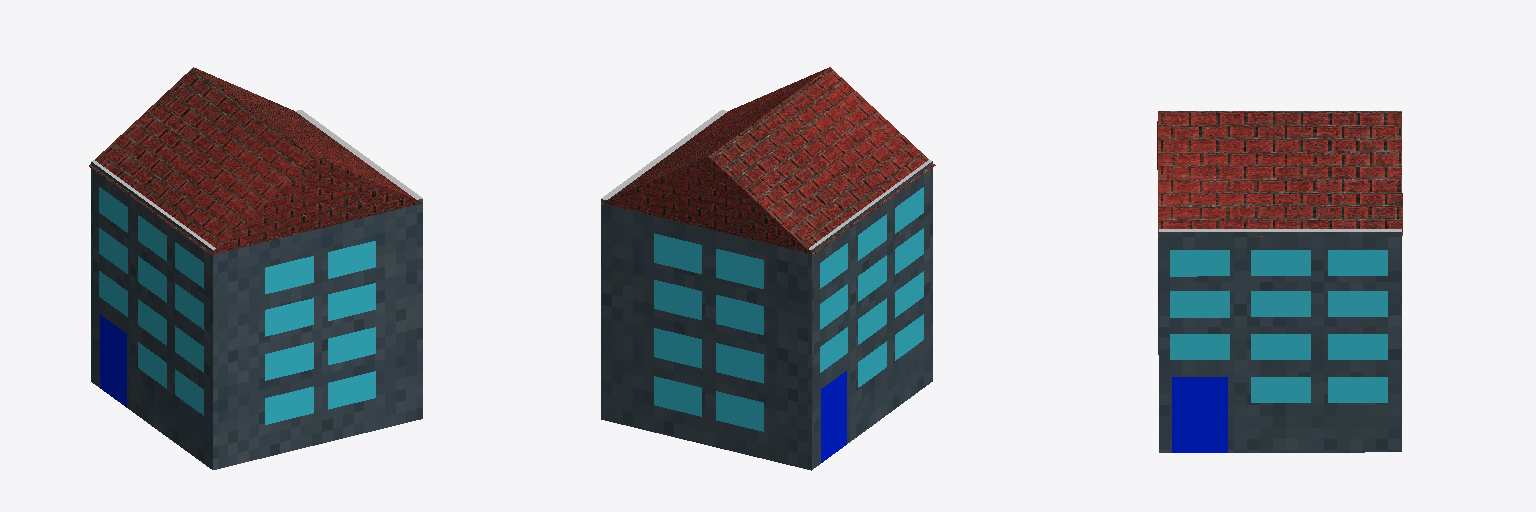
The picture shows the model from 3 angles: view 1: azimuth 30°, elevation 25°; view 2: azimuth 150°, elevation 25°; view 3: azimuth 270°, elevation 25°; orthographic projection.
Parts seen in each view (by area): view 1: left, front, roof1, roof4, roof2, ungrouped; view 2: right, front, roof1, roof3, roof2, ungrouped; view 3: back, roof2, ungrouped.
Part boxes in pixels (bbox=[...]): left: bbox=[213, 199, 422, 469]; front: bbox=[91, 162, 212, 469]; roof1: bbox=[89, 67, 315, 254]; roof4: bbox=[212, 157, 422, 254]; roof2: bbox=[195, 68, 422, 202]; ungrouped: bbox=[91, 110, 422, 249]; right: bbox=[601, 199, 811, 470]; front: bbox=[812, 161, 932, 469]; roof1: bbox=[708, 67, 935, 254]; roof3: bbox=[601, 157, 812, 254]; roof2: bbox=[602, 68, 827, 202]; ungrouped: bbox=[601, 110, 931, 249]; back: bbox=[1159, 232, 1401, 452]; roof2: bbox=[1158, 111, 1402, 236]; ungrouped: bbox=[1159, 229, 1401, 231].
Bounding box in the file's own units: 72 × 93.19 × 71.67.
2 materials, 1 textured.